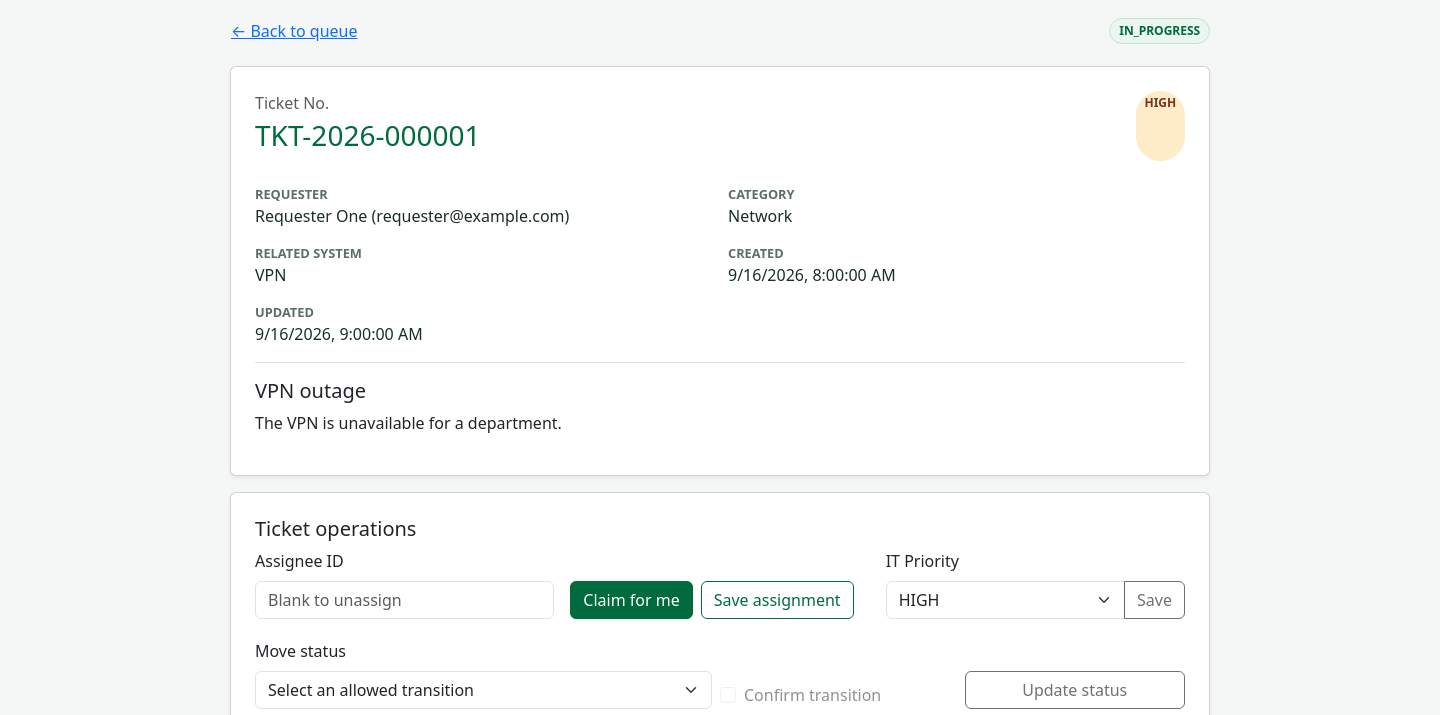
Test case: Ticket workflow resolution gate › requires completed Action evidence before resolving
Expected: the heading "TKT-2026-000001" is shown, [255,119,480,153]
Select "RESOLVED (confirmation required)" in the dropdown labelled "Move status" at point(484, 690), box [255,671,712,709]
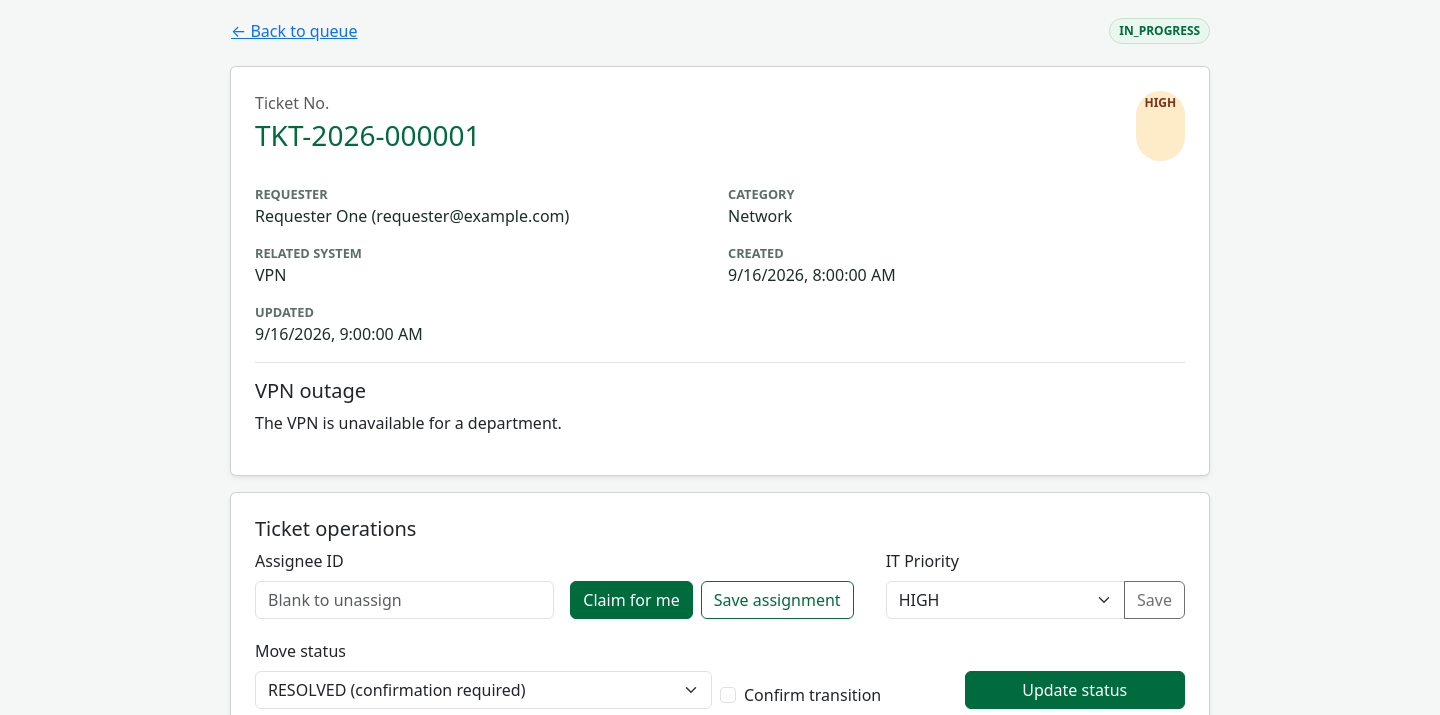
Click the checkbox labelled "Confirm transition" at point(728, 695), box [720,687,736,703]
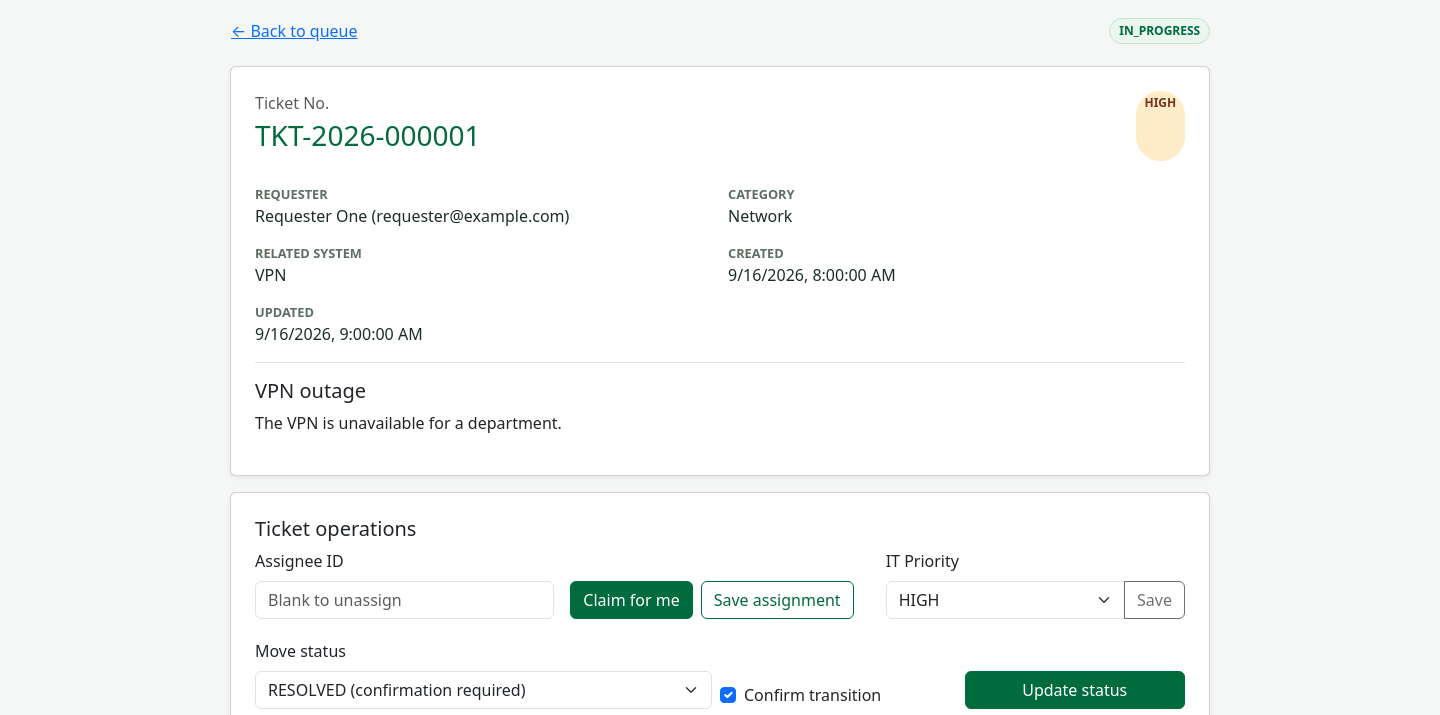
Click the button "Update status" at point(1075, 690), box [964,671,1185,709]
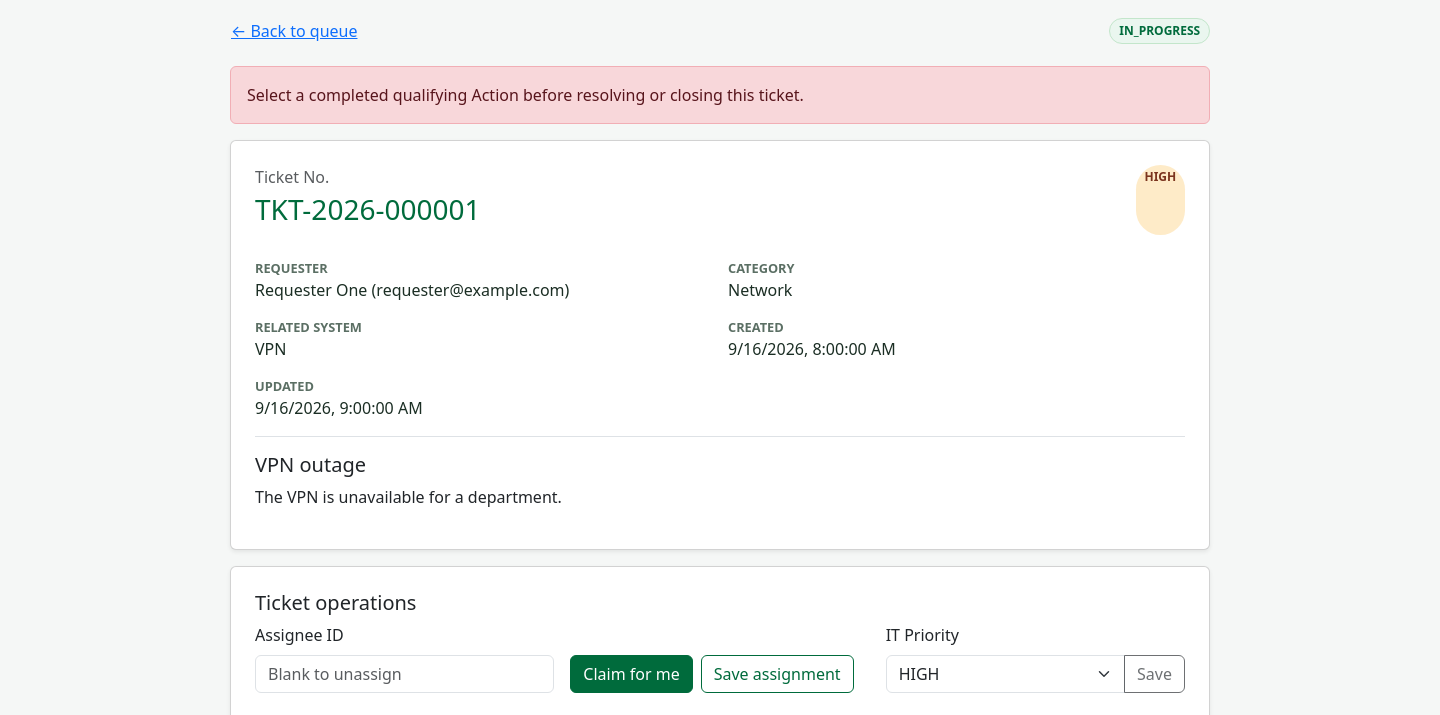
Now the message shows "completed qualifying Action", box [247,84,804,106]
